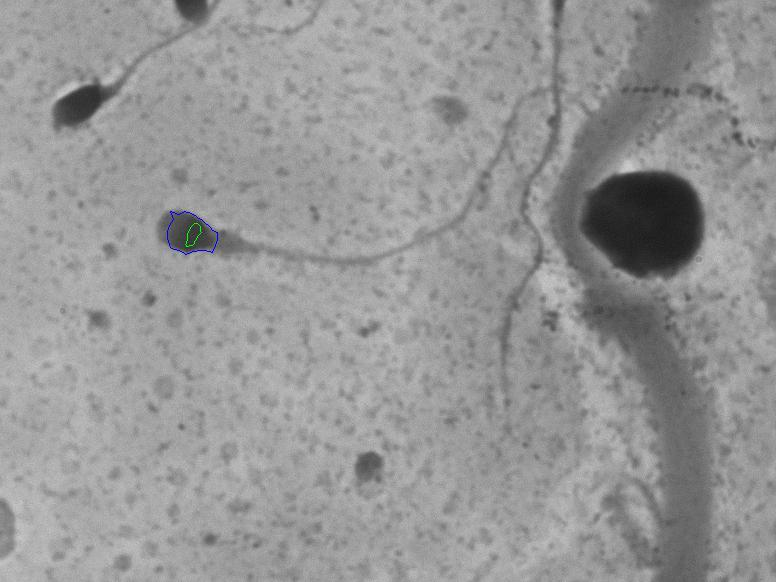Abnormal: (24, 15, 246, 151)
